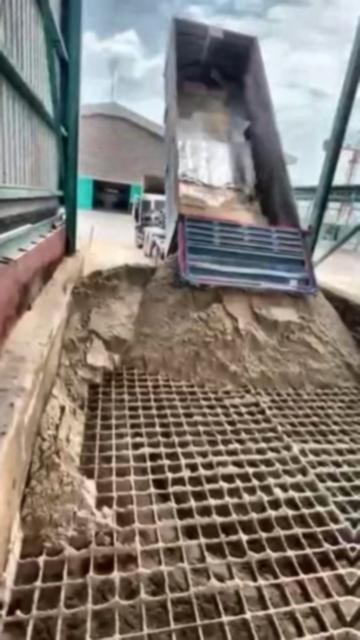sand: (23, 259, 360, 544), (179, 183, 266, 224)
